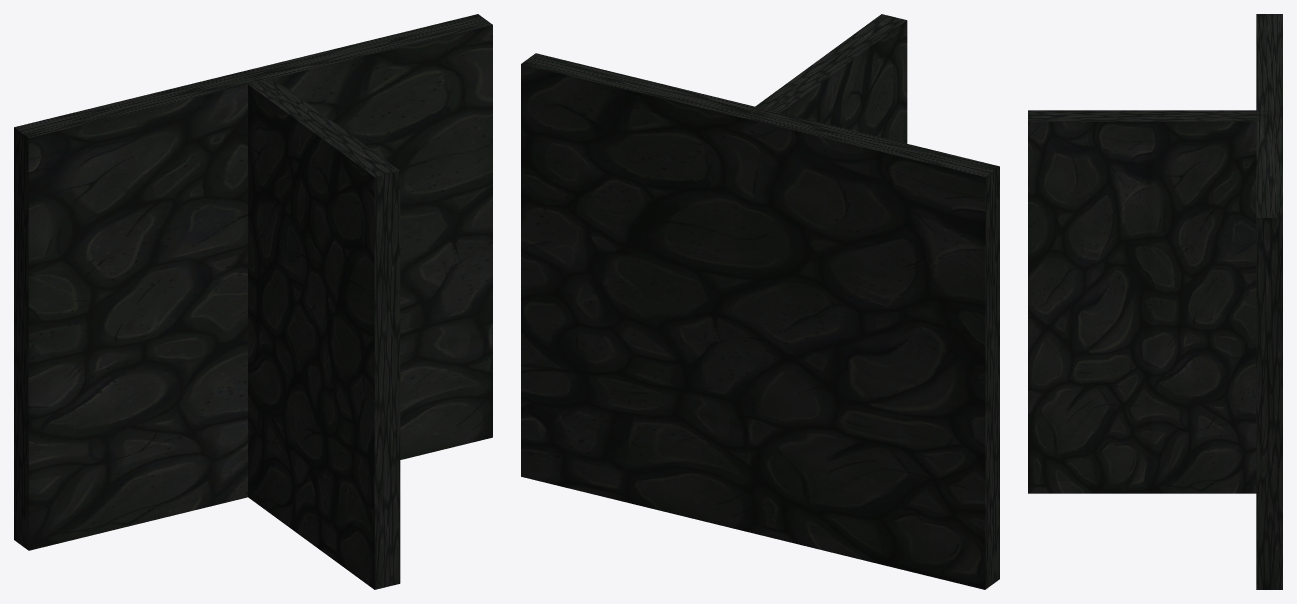
The model's file is stone_junction_t.glb.
3 renders of one model, left to right at view 1: azimuth 30°, elevation 25°; view 2: azimuth 150°, elevation 25°; view 3: azimuth 270°, elevation 25°, orthographic. The views are drawn at different scales.
Parts seen in each view (by area): view 1: stone_junction_t, _MeshInstance3D_2515; view 2: stone_junction_t, _MeshInstance3D_2515; view 3: _MeshInstance3D_2515, stone_junction_t.
Part boxes in pixels (x1=…): stone_junction_t: x1=14, y1=14, x2=492, y2=550; _MeshInstance3D_2515: x1=241, y1=78, x2=400, y2=589; stone_junction_t: x1=521, y1=53, x2=999, y2=589; _MeshInstance3D_2515: x1=748, y1=14, x2=907, y2=143; _MeshInstance3D_2515: x1=1028, y1=110, x2=1269, y2=493; stone_junction_t: x1=1256, y1=14, x2=1282, y2=589.
Size of the model in its own units: 4 by 3.4 by 2.11.
Materials: 1 (1 with a texture image).
